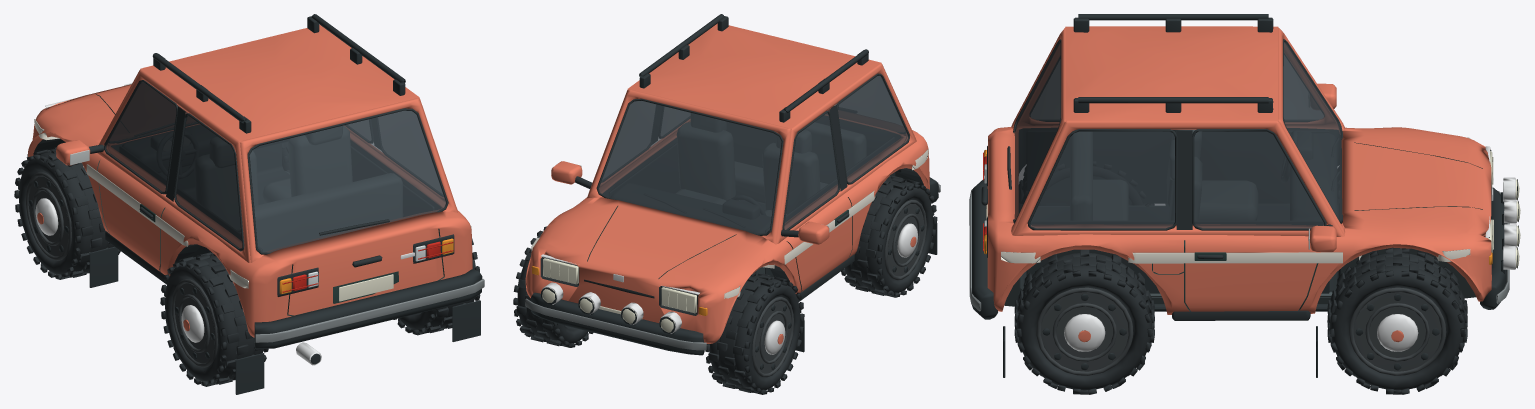
File: scamp_lod2.fbx
3 renders of one model, left to right at view 1: azimuth 30°, elevation 25°; view 2: azimuth 150°, elevation 25°; view 3: azimuth 270°, elevation 25°, orthographic. The views are drawn at different scales.
Visible parts, largest first — view 1: Body, Wheel_RL_Mesh, Wheel_FL_Mesh, Wheel_RR_Mesh; view 2: Body, Wheel_FL_Mesh, Wheel_RL_Mesh, Wheel_FR_Mesh; view 3: Body, Wheel_FR_Mesh, Wheel_RR_Mesh, Wheel_RL_Mesh.
Part boxes in pixels (left/top/right/bottom): Body: left=27, top=14, right=484, bottom=394; Wheel_RL_Mesh: left=160, top=252, right=268, bottom=386; Wheel_FL_Mesh: left=14, top=147, right=120, bottom=279; Wheel_RR_Mesh: left=393, top=238, right=480, bottom=335; Body: left=525, top=14, right=940, bottom=355; Wheel_FL_Mesh: left=705, top=272, right=804, bottom=394; Wheel_RL_Mesh: left=841, top=175, right=937, bottom=297; Wheel_FR_Mesh: left=513, top=226, right=593, bottom=347; Body: left=969, top=14, right=1520, bottom=377; Wheel_FR_Mesh: left=1327, top=248, right=1467, bottom=394; Wheel_RR_Mesh: left=1014, top=249, right=1154, bottom=394; Wheel_RL_Mesh: left=1019, top=161, right=1154, bottom=205.
Size of the model in its own units: 228 by 188 by 342.
